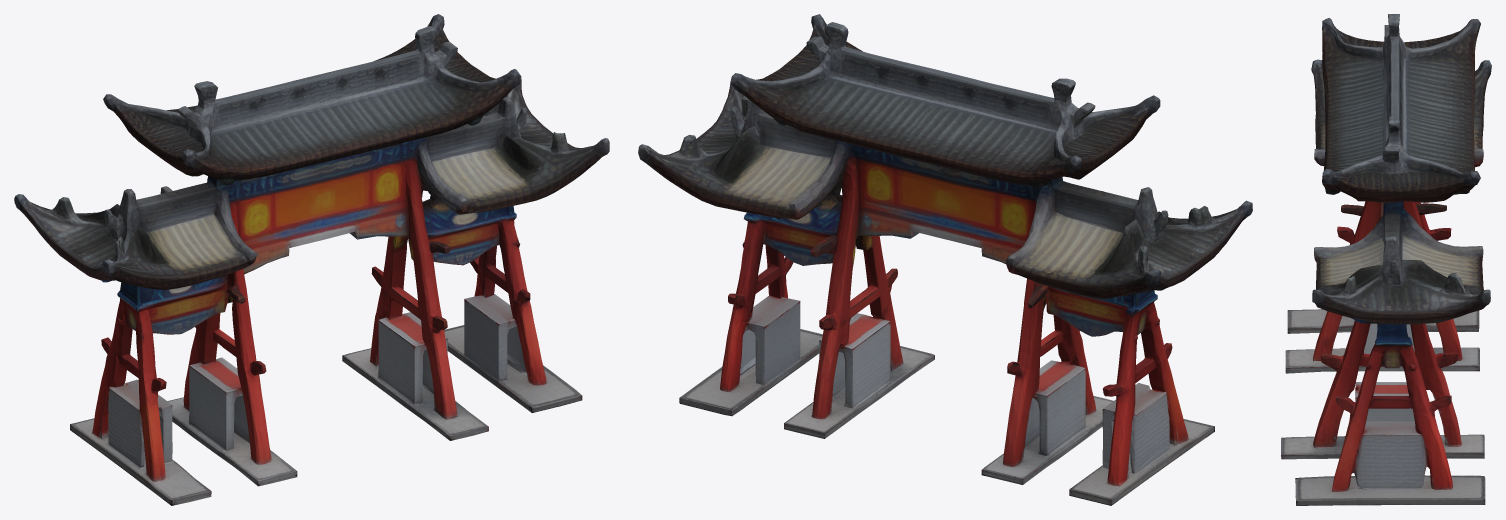
Rendered from red-army-gate.glb.
3 renders of one model, left to right at view 1: azimuth 30°, elevation 25°; view 2: azimuth 150°, elevation 25°; view 3: azimuth 270°, elevation 25°, orthographic. The views are drawn at different scales.
Parts seen in each view (by area): view 1: world; view 2: world; view 3: world.
Boxes of the visible parts, bbox=[...] form: world: bbox=[14, 14, 609, 505]; world: bbox=[638, 14, 1252, 505]; world: bbox=[1281, 14, 1491, 505].
Size of the model in its own units: 0.9987 by 0.6839 by 0.3829.
1 material, 1 textured.
